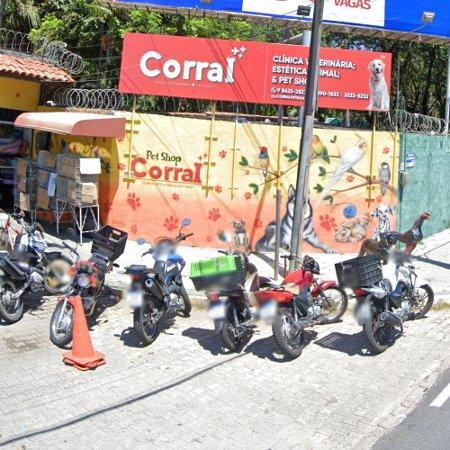motorcycles: (256, 256, 349, 359), (50, 226, 126, 347), (0, 215, 77, 324), (355, 252, 435, 354), (126, 233, 193, 346), (190, 251, 259, 352)
